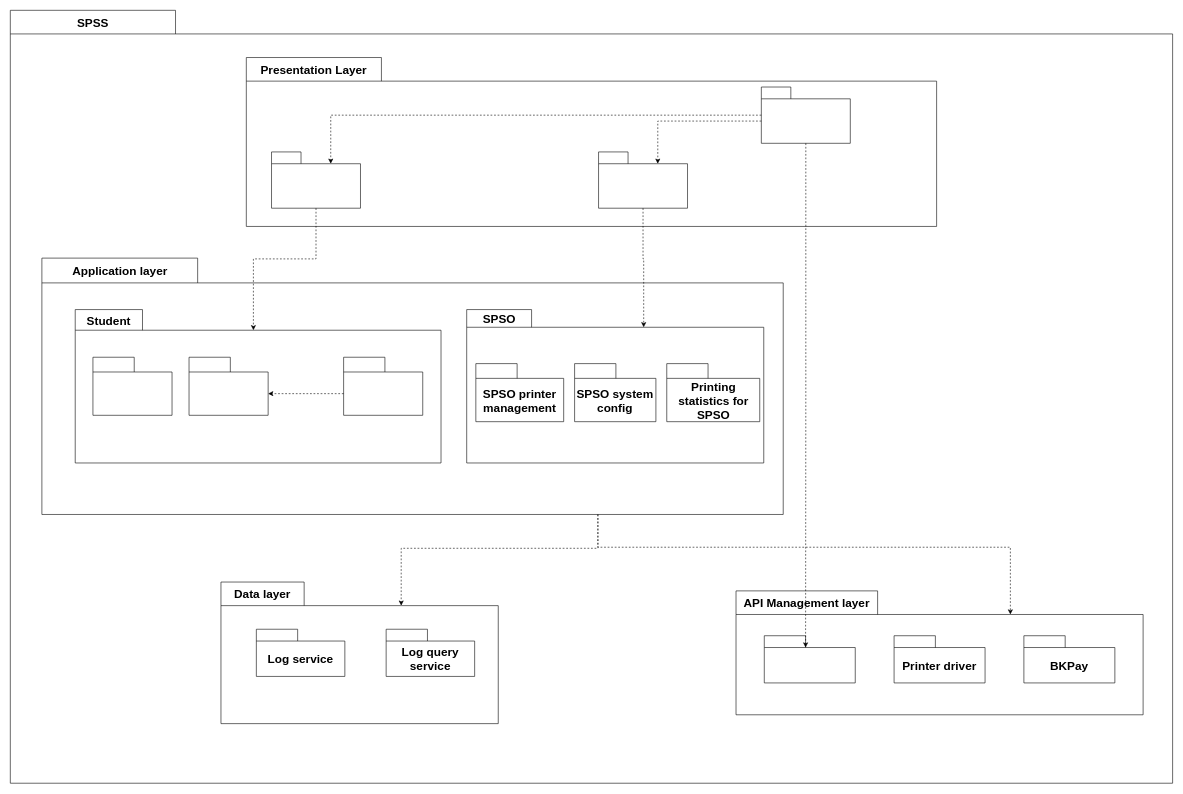
The diagram is 1183 pixels wide and 794 high, and some of its shapes have lost their labels. Here are the shapes that lost their labels. From the top down, the centre of each, then its label:
point 805,114: Login
point 315,179: Student interface
point 643,179: SPSO interface
point 132,386: Student print
point 228,386: Student purchase
point 383,386: Student account
point 809,659: HCMUT_SSO
